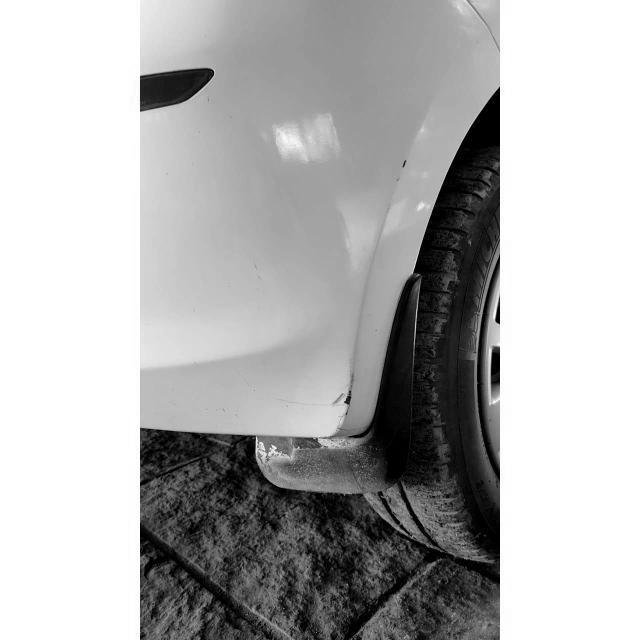rear-bumper-dent: (140, 1, 480, 498)
